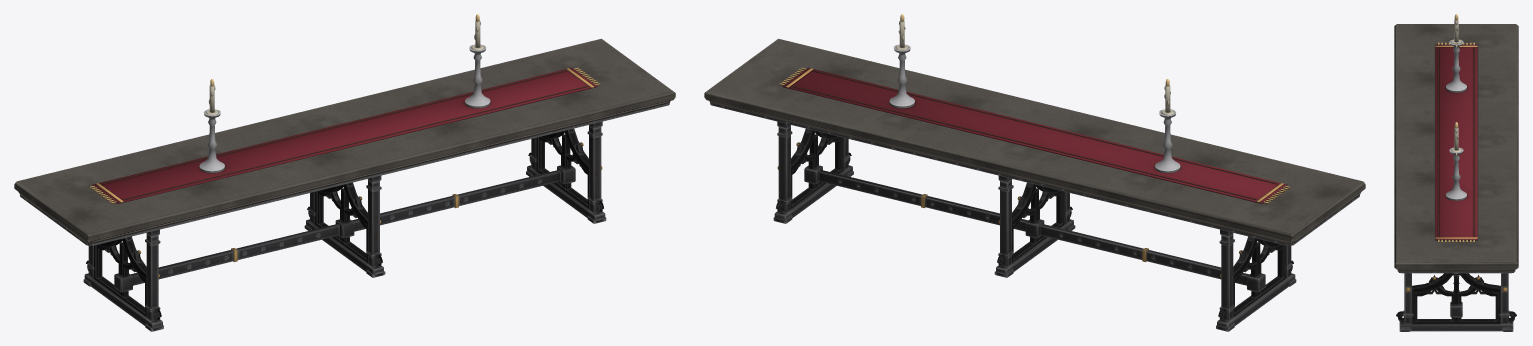
File: TableBanquet.fbx
3 views of the same model, side by side, from view 1: azimuth 30°, elevation 25°; view 2: azimuth 150°, elevation 25°; view 3: azimuth 270°, elevation 25° (orthographic). The views are drawn at different scales.
Visible parts, largest first — view 1: TableBanquet_Main; view 2: TableBanquet_Main; view 3: TableBanquet_Main.
Part boxes in pixels (x1,y1,x2,y2): TableBanquet_Main: [14, 20, 675, 331]; TableBanquet_Main: [704, 20, 1365, 331]; TableBanquet_Main: [1394, 19, 1518, 331].
Bounding box in the file's own units: 1600 × 533 × 350.
